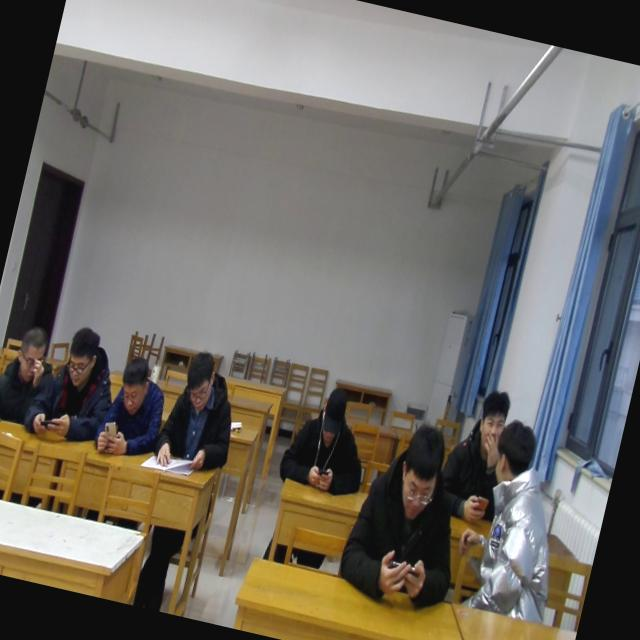down: (385, 416, 454, 525), (58, 318, 105, 392), (177, 344, 223, 414), (111, 350, 156, 416), (310, 380, 352, 450)
lookup: (466, 384, 514, 453)
sit: (331, 408, 485, 618), (442, 412, 588, 626), (20, 314, 130, 454), (432, 377, 530, 526), (151, 342, 251, 481), (273, 377, 380, 503), (88, 346, 176, 466), (0, 319, 66, 433)
